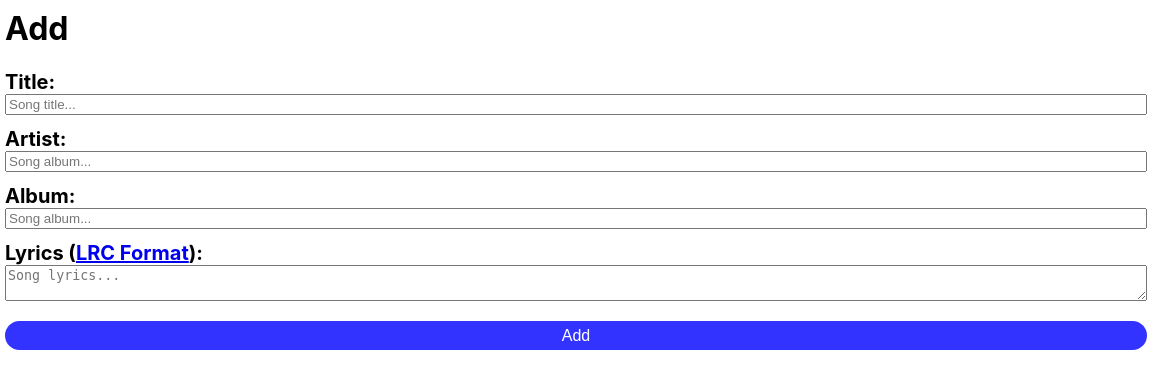
Test case: rendering editsong view
Type "title" into the field with id "title" at point(576, 104), box [5,94,1147,115]
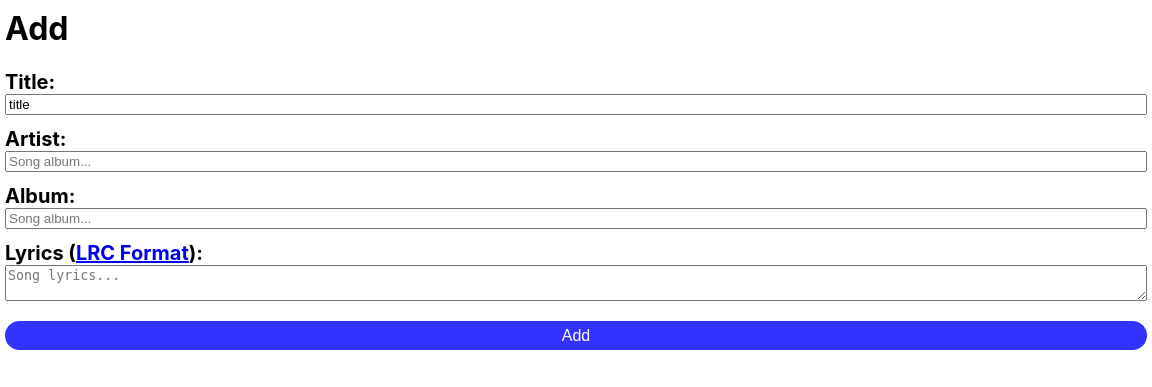
Type "album" into the field with id "album" at point(576, 218), box [5,208,1147,229]
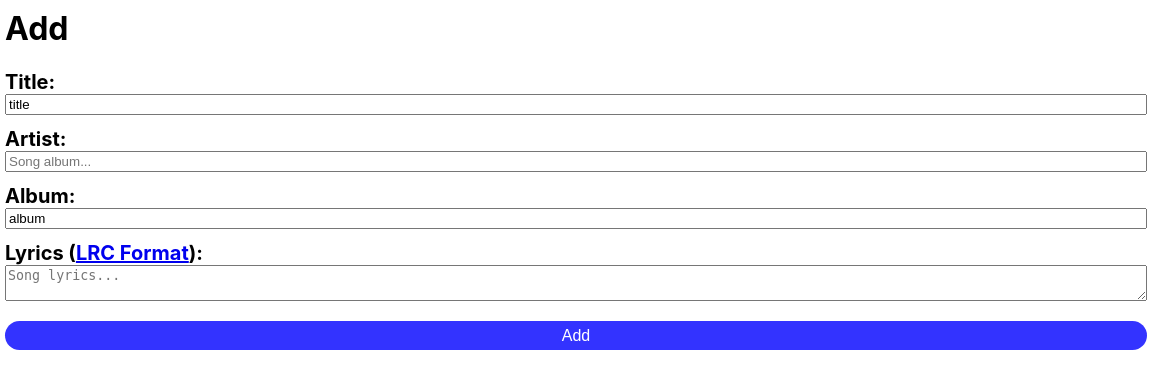
Type "artist" into the field with id "artist" at point(576, 161), box [5,151,1147,172]
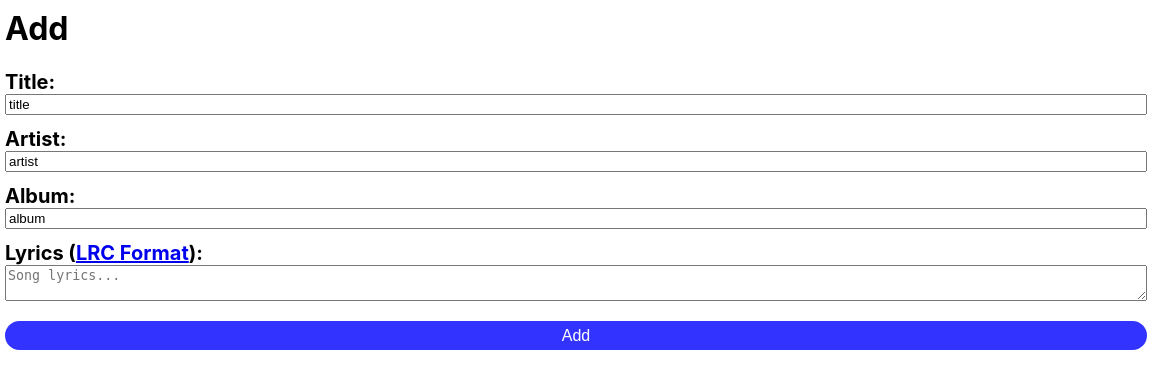
Click the button with id "add" at point(576, 335), box [5,321,1147,350]
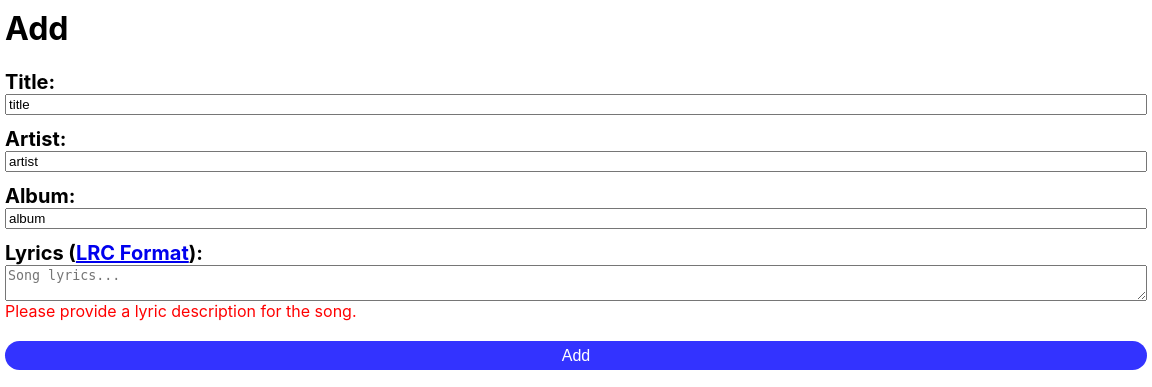
Now the text with id "lyric-error" reads "Please provide a lyric description for the song.", box [5,301,356,321]
